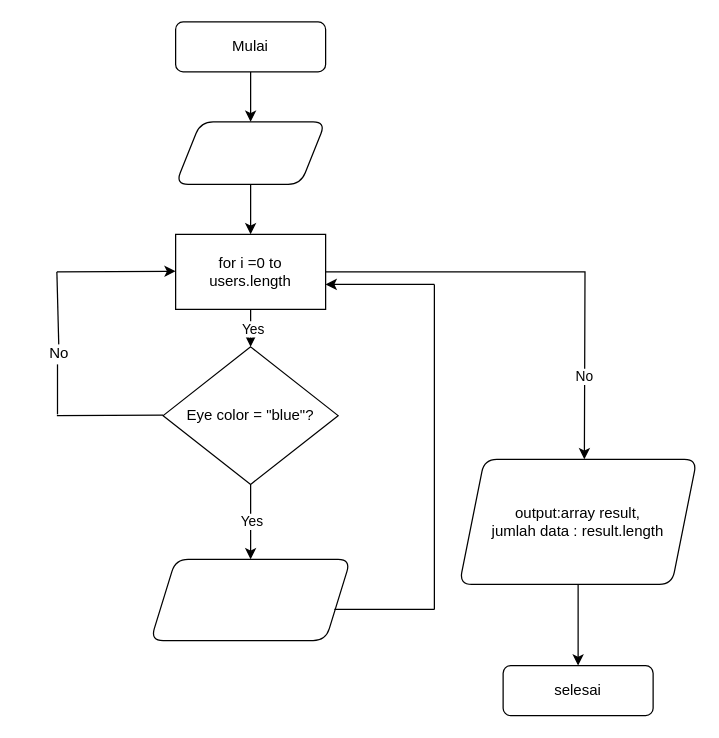
This 719x738 diagram has some shape labels left out. Each missing label, with the centre of its shape:
input data user ke array result: point (250, 599)
input eye color: point (250, 152)
